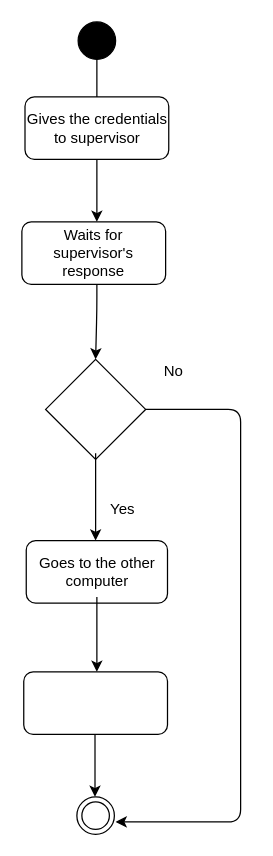
Image size: 273x856. Some labels were removed from this diagram. The centre of each missing label's shape, as x and y in pixels:
"Ready to vote" belongs at (95,408).
"Submits his vote" belongs at (95,702).
